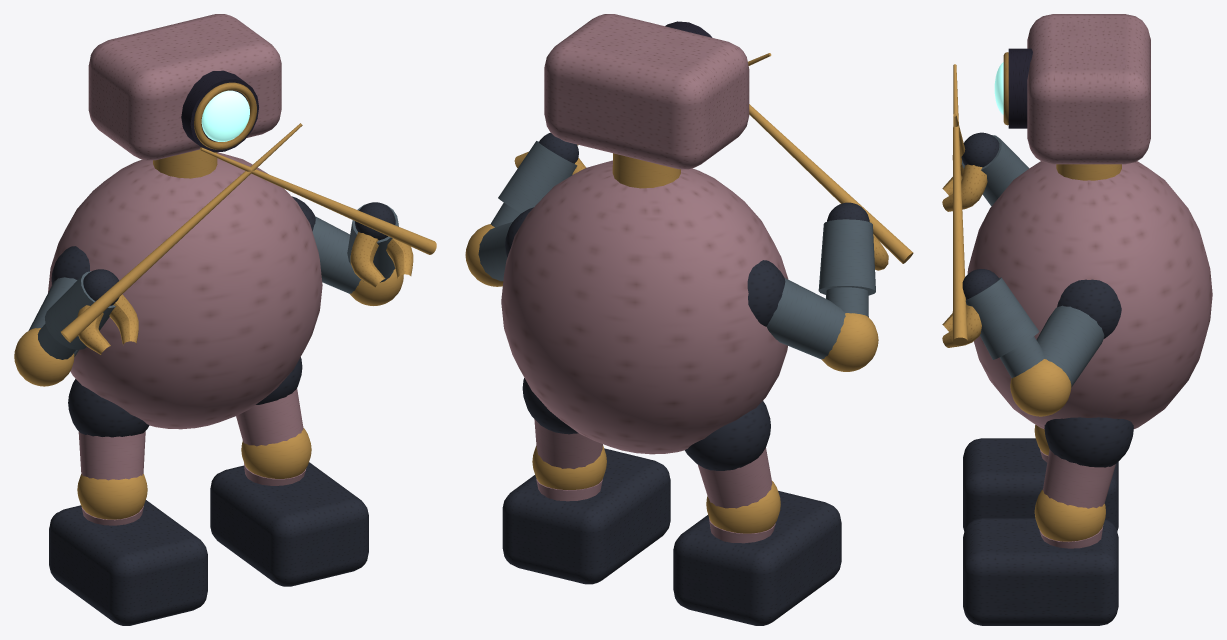
Rendered from purl.glb.
3 renders of one model, left to right at view 1: azimuth 30°, elevation 25°; view 2: azimuth 150°, elevation 25°; view 3: azimuth 270°, elevation 25°, orthographic. The views are drawn at different scales.
Parts seen in each view (by area): view 1: Yarn drum, Sole (×2), Optics housing, Upper link (×4), Elbow bearing (×4), Knitting needle (×2), Shoulder bearing (×3), Jaw (×4), Forearm sleeve (×2), Optical glass, Barrel, Wrist bearing (×2) (+3 smaller); view 2: Yarn drum, Sole (×2), Optics housing, Upper link (×4), Forearm sleeve (×4), Elbow bearing (×4), Shoulder bearing (×3), Knitting needle, Neck piston, Forearm piston, Wrist bearing; view 3: Yarn drum, Sole (×2), Optics housing, Upper link (×2), Shoulder bearing (×2), Forearm sleeve (×3), Elbow bearing (×2), Knitting needle, Wrist bearing (×2), Barrel, Jaw (×2), Forearm piston (+3 smaller).
Boxes of the visible parts, bbox=[...] form: Yarn drum: bbox=[48, 152, 322, 429]; Sole (×2): bbox=[49, 462, 368, 625]; Optics housing: bbox=[88, 14, 281, 160]; Upper link (×4): bbox=[28, 216, 361, 480]; Elbow bearing (×4): bbox=[14, 269, 403, 519]; Knitting needle (×2): bbox=[61, 123, 436, 342]; Shoulder bearing (×3): bbox=[51, 246, 302, 437]; Jaw (×4): bbox=[77, 232, 413, 354]; Forearm sleeve (×2): bbox=[45, 204, 398, 349]; Optical glass: bbox=[201, 90, 249, 141]; Barrel: bbox=[181, 70, 258, 152]; Wrist bearing (×2): bbox=[83, 202, 395, 305]; Yarn drum: bbox=[501, 160, 788, 454]; Sole (×2): bbox=[502, 448, 841, 625]; Optics housing: bbox=[544, 14, 749, 169]; Upper link (×4): bbox=[478, 222, 845, 508]; Forearm sleeve (×4): bbox=[498, 141, 875, 543]; Elbow bearing (×4): bbox=[465, 224, 878, 533]; Shoulder bearing (×3): bbox=[522, 260, 785, 470]; Knitting needle: bbox=[749, 104, 913, 263]; Neck piston: bbox=[612, 153, 680, 188]; Forearm piston: bbox=[826, 287, 868, 317]; Wrist bearing: bbox=[538, 132, 578, 163]; Yarn drum: bbox=[967, 161, 1212, 429]; Sole (×2): bbox=[963, 438, 1118, 625]; Optics housing: bbox=[1027, 14, 1150, 164]; Upper link (×2): bbox=[1036, 305, 1115, 508]; Shoulder bearing (×2): bbox=[1044, 279, 1133, 467]; Forearm sleeve (×3): bbox=[961, 135, 1103, 548]; Elbow bearing (×2): bbox=[1010, 359, 1105, 541]; Knitting needle: bbox=[952, 64, 967, 345]; Wrist bearing (×2): bbox=[961, 132, 999, 299]; Barrel: bbox=[1008, 48, 1032, 128]; Jaw (×2): bbox=[942, 164, 987, 347]; Forearm piston: bbox=[1000, 336, 1044, 378].
Bounding box in the file's own units: 0.834 × 1.08 × 0.5035.
12 materials, 11 textured.
